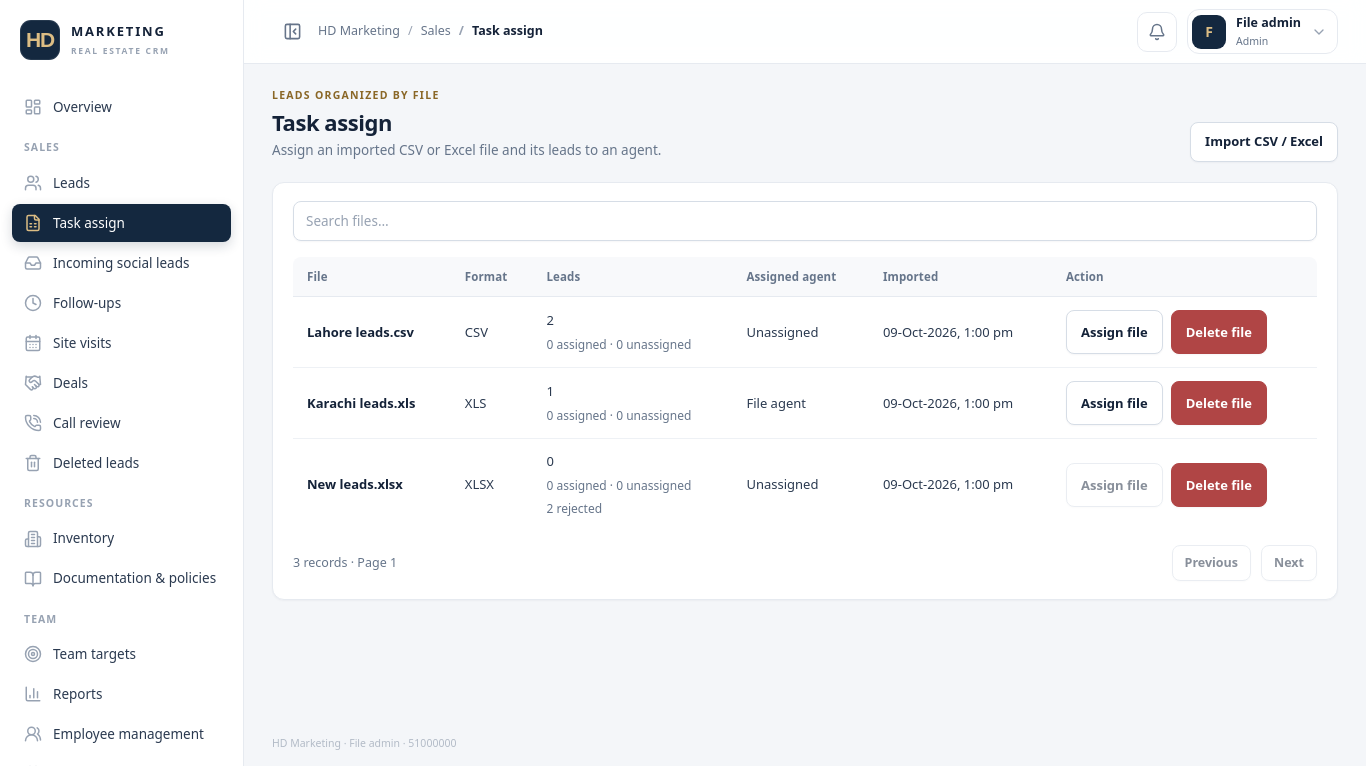
file assignment screens › assigns a whole file to an active agent and refreshes the file listing
The width and height of the screenshot is (1366, 766).
Click the button "Assign file" in the row of "Lahore leads.csv" at [1114, 332], box [1066,310,1163,354]
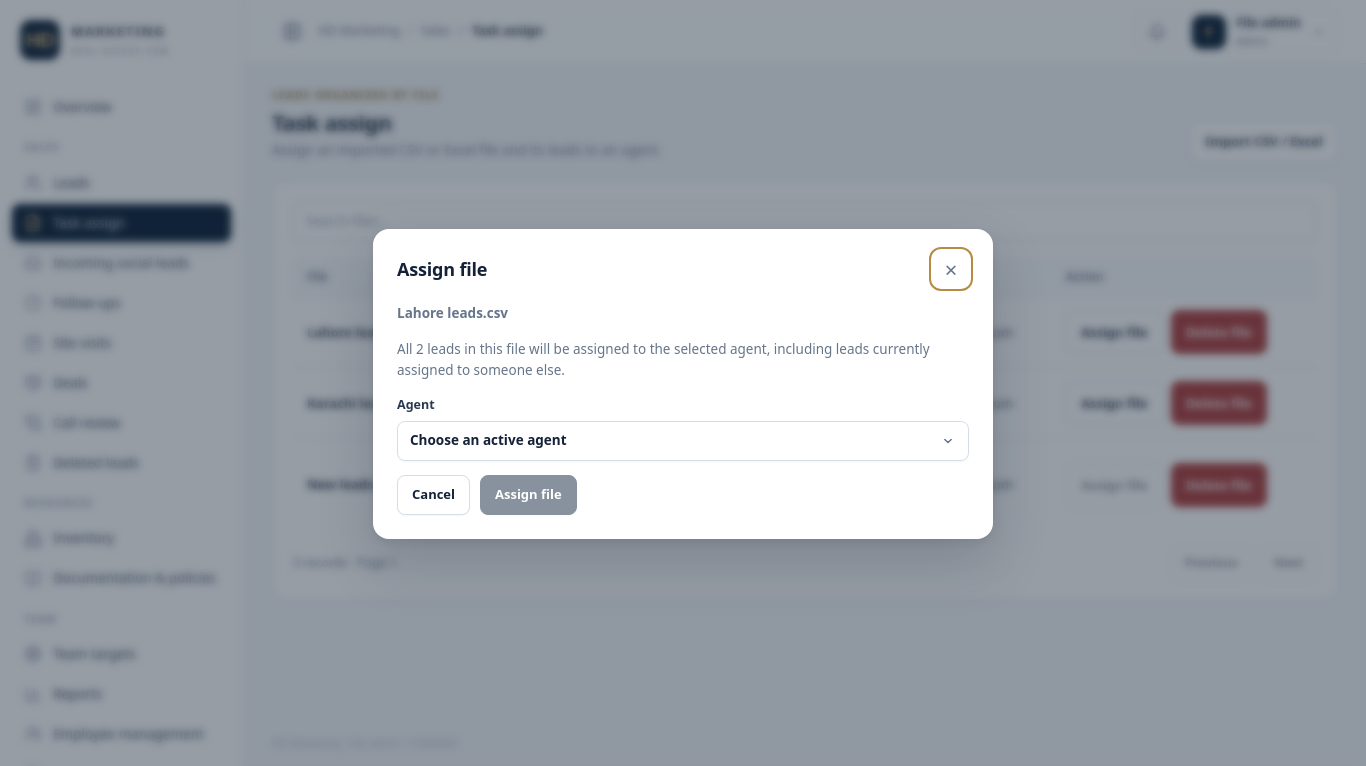
Result: the text "All 2 leads" is shown at [397,339,969,382]
Select "File agent" in the dropdown labelled "Agent" at [683, 441], box [397,421,969,461]
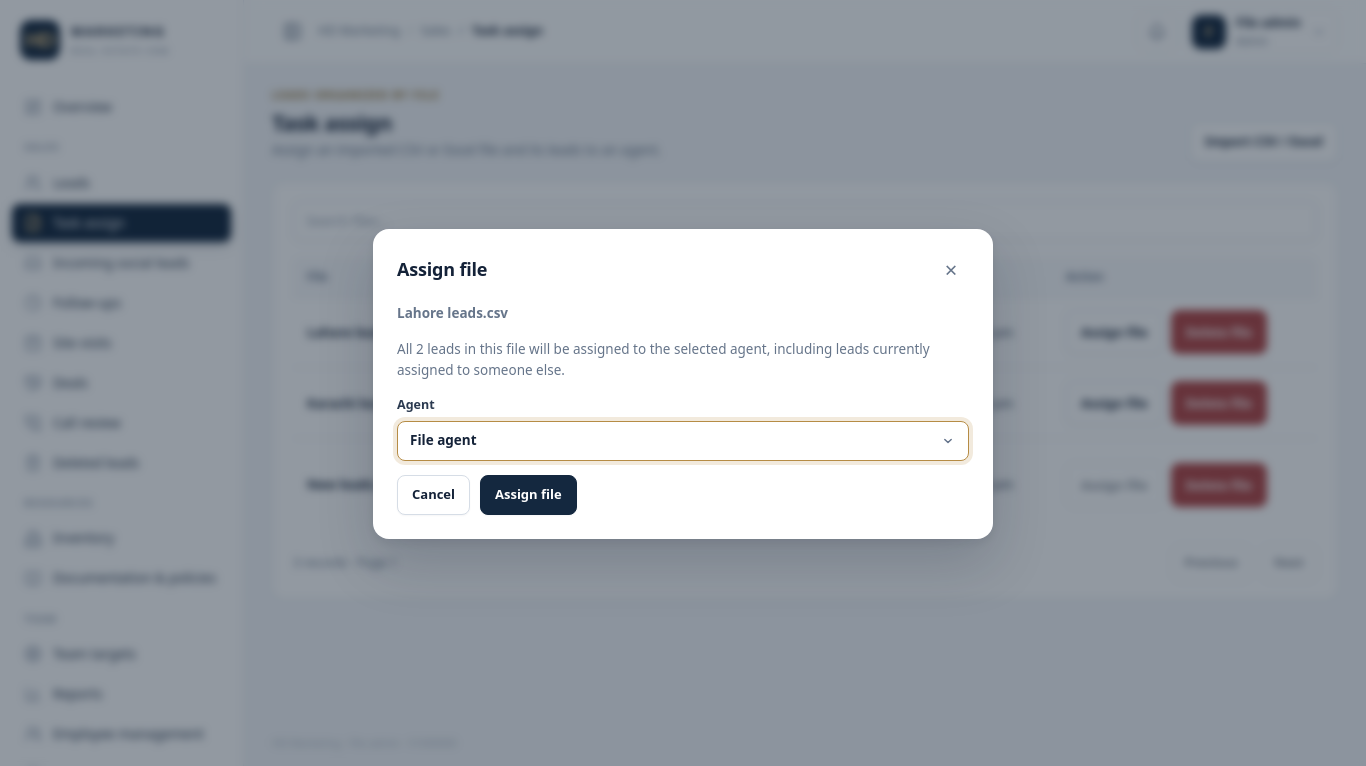
Click the button "Assign file" at [528, 495], box [480,475,577,515]
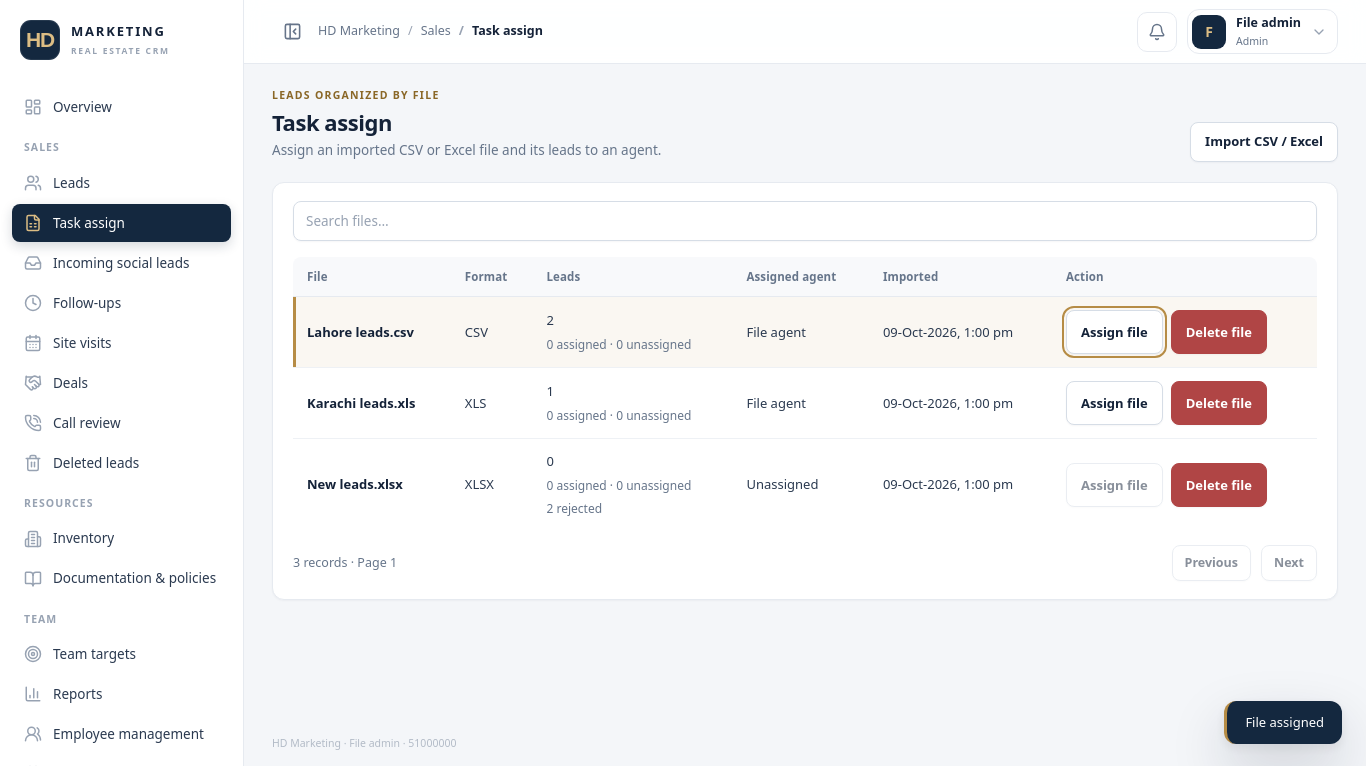
Result: the dialog is gone
Result: the text "File assigned" is shown at [1224,700,1342,744]
